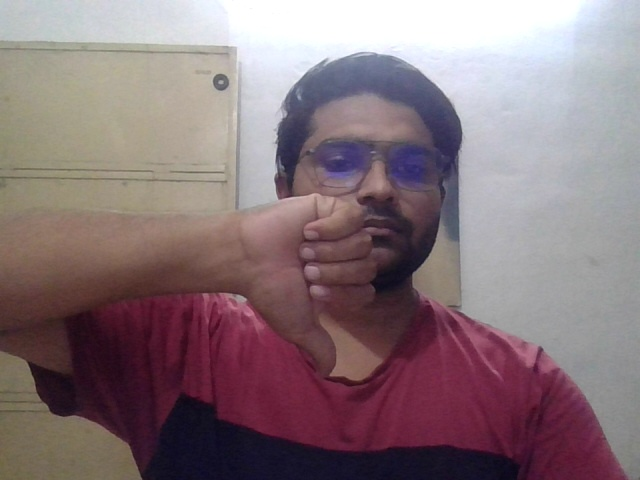ThumbsDown: (248, 194, 382, 384)
